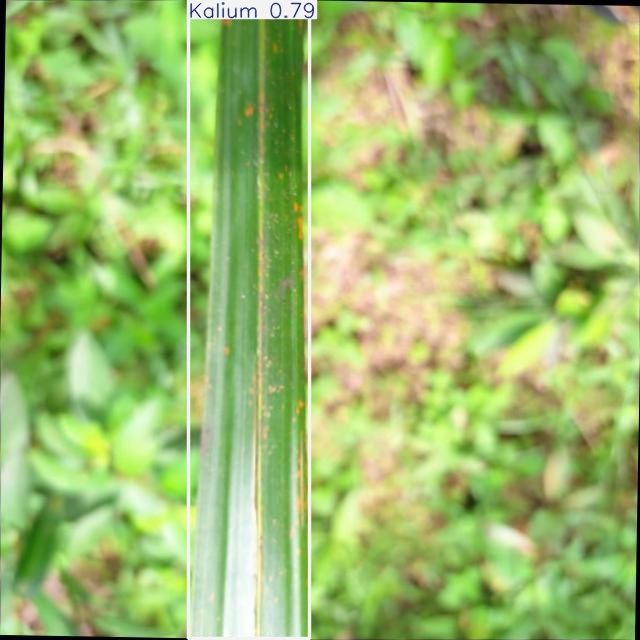Kalium: (188, 0, 309, 639)
